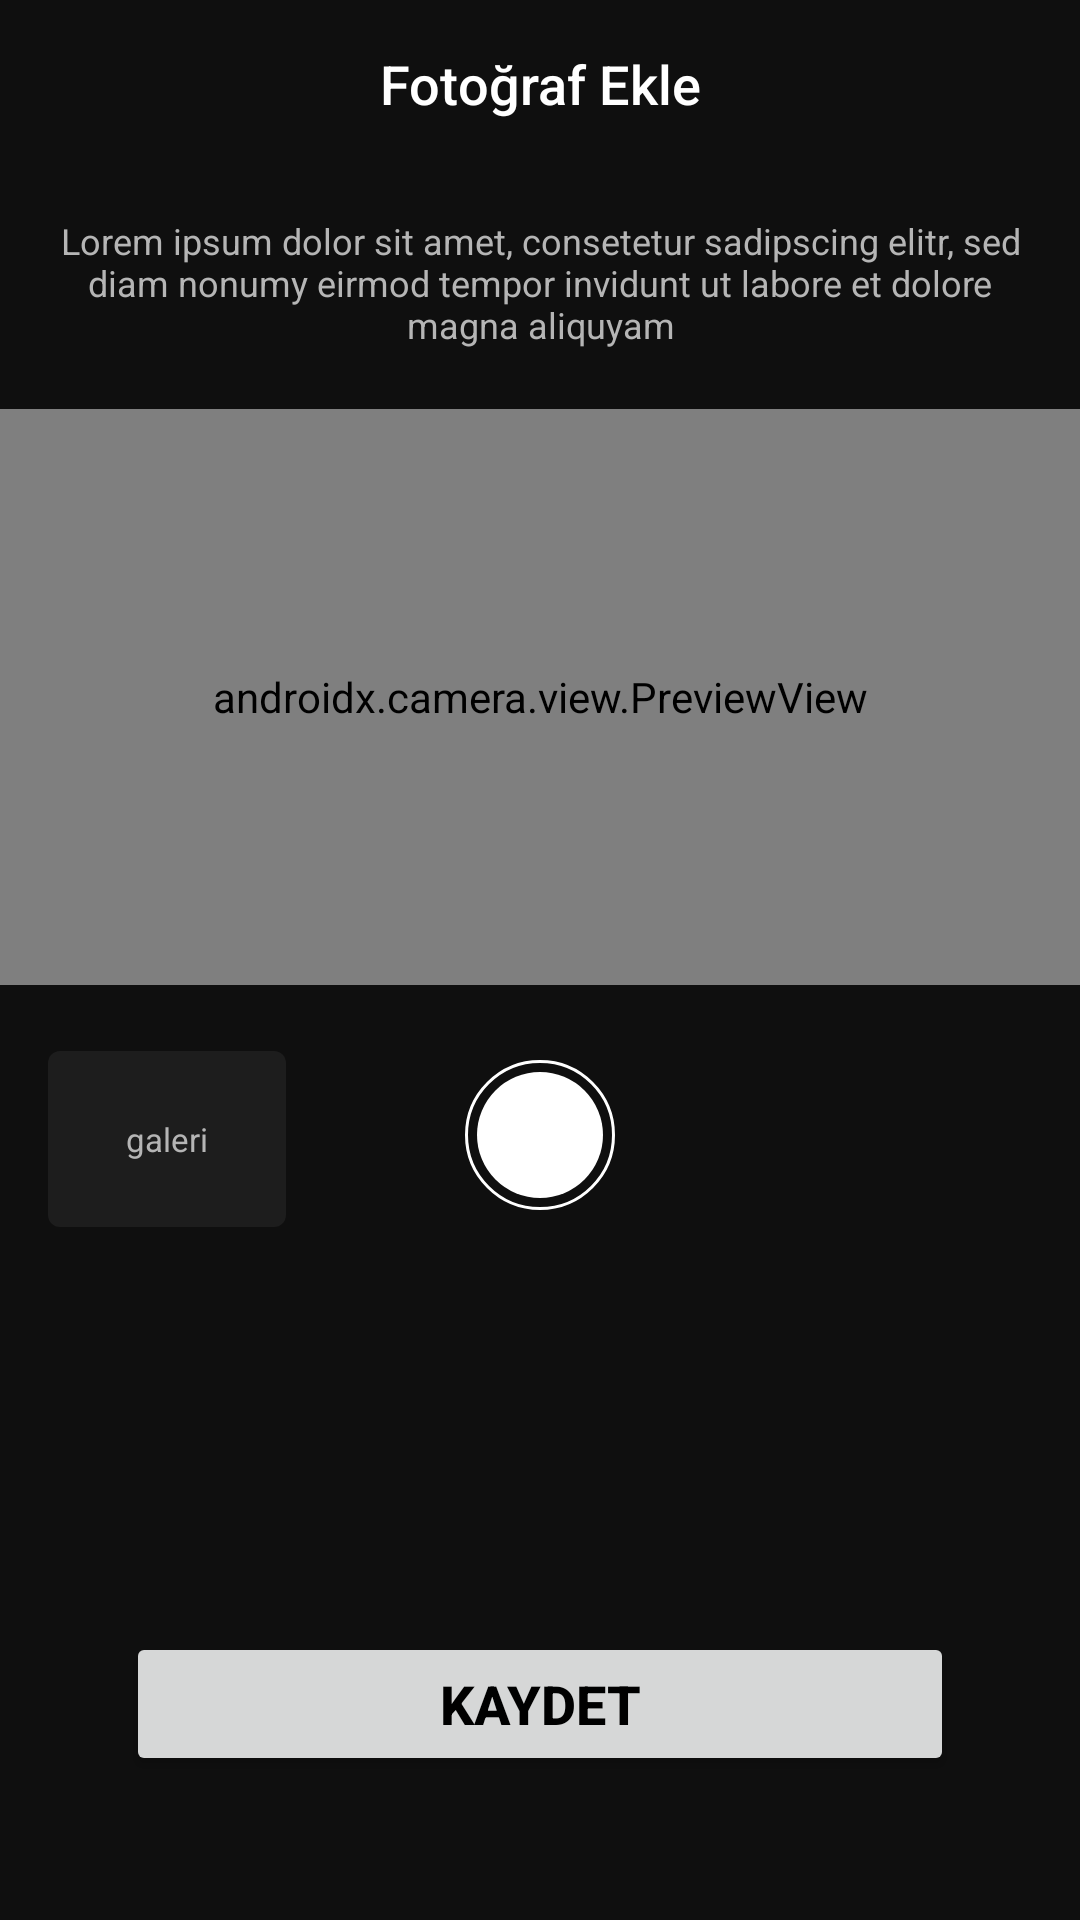

Icons on this 1080x1920 Android screen, each with its box as (x1, y1, x2, y2):
con camera: (465, 1060, 615, 1210)
